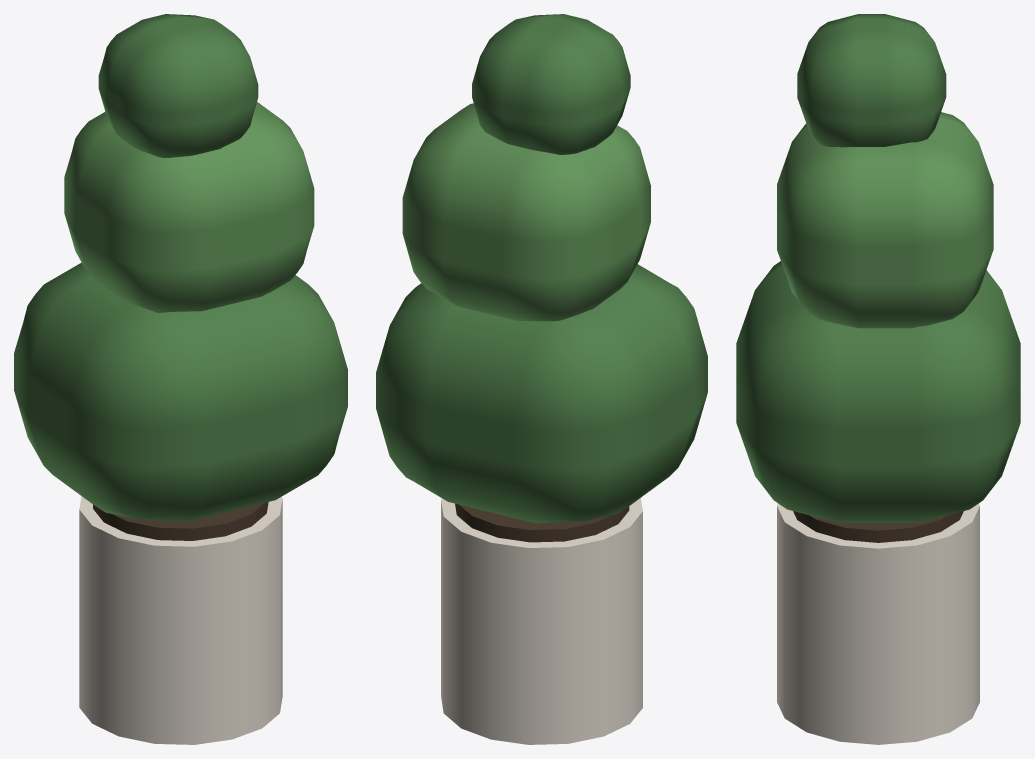
The picture shows the model from 3 angles, left to right: view 1: azimuth 30°, elevation 25°; view 2: azimuth 150°, elevation 25°; view 3: azimuth 270°, elevation 25°; orthographic projection.
Parts seen in each view (by area): view 1: leaves-low, pot, leaves-high, leaves-top, soil; view 2: leaves-low, pot, leaves-high, leaves-top, soil; view 3: leaves-low, pot, leaves-high, leaves-top, soil.
Boxes of the visible parts, bbox=[...] form: leaves-low: bbox=[14, 262, 347, 521]; pot: bbox=[79, 496, 282, 744]; leaves-high: bbox=[64, 102, 314, 312]; leaves-top: bbox=[98, 14, 258, 157]; soil: bbox=[93, 502, 268, 540]; leaves-low: bbox=[376, 264, 707, 523]; pot: bbox=[441, 498, 642, 744]; leaves-high: bbox=[402, 103, 650, 321]; leaves-top: bbox=[472, 14, 630, 154]; soil: bbox=[455, 503, 629, 542]; leaves-low: bbox=[736, 261, 1020, 522]; pot: bbox=[777, 503, 979, 744]; leaves-high: bbox=[777, 112, 993, 328]; leaves-top: bbox=[797, 14, 946, 147]; soil: bbox=[793, 511, 963, 542].
Bounding box in the file's own units: 0.45 × 1.1 × 0.42.
